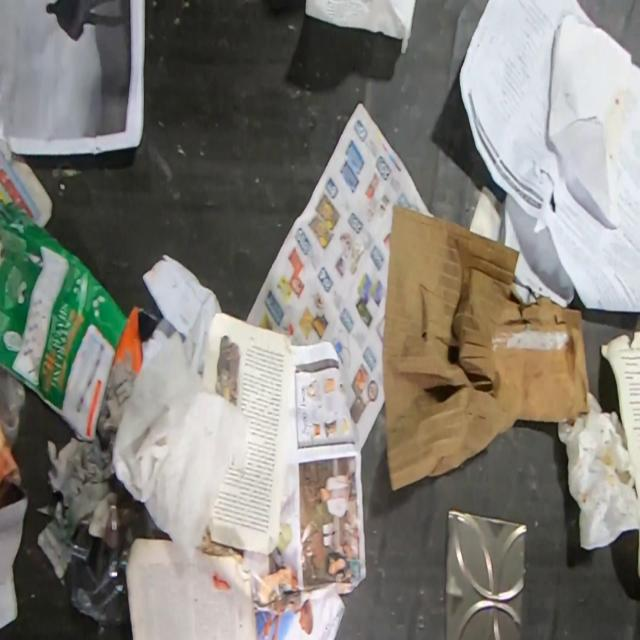cardboard: (380, 204, 589, 492), (0, 198, 130, 441), (106, 303, 164, 387)
metal: (443, 508, 526, 640)
rigid_plastic: (70, 504, 136, 626)
